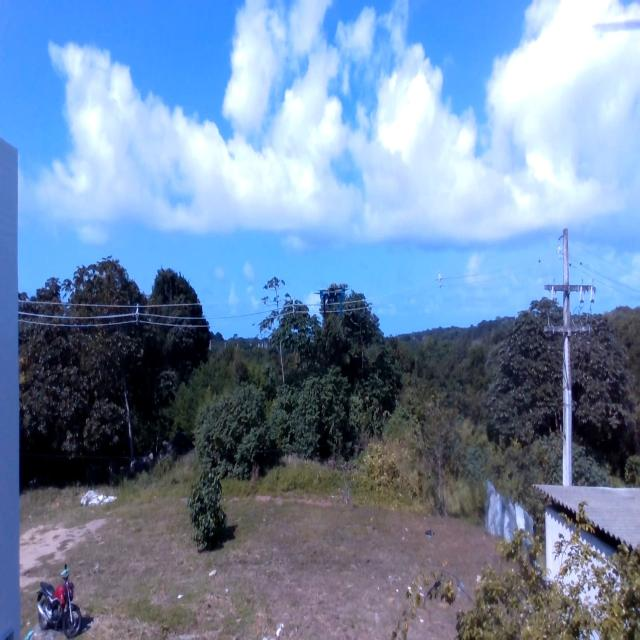-uav-: (319, 289, 346, 318)
